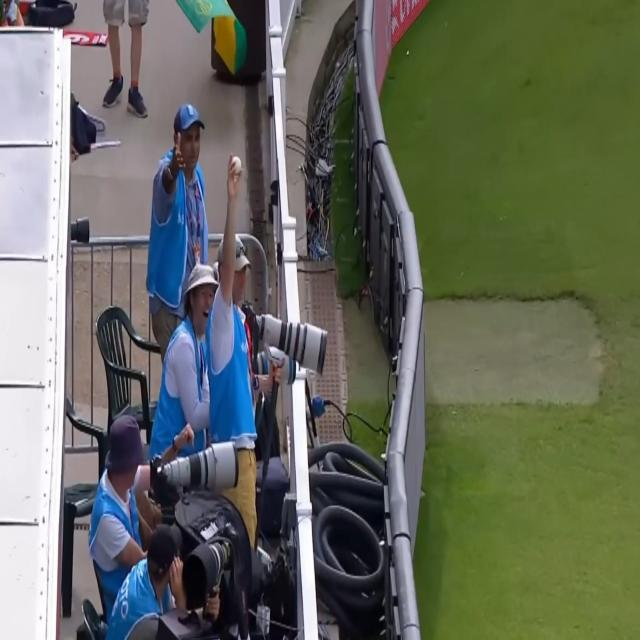ball: (226, 150, 247, 182)
